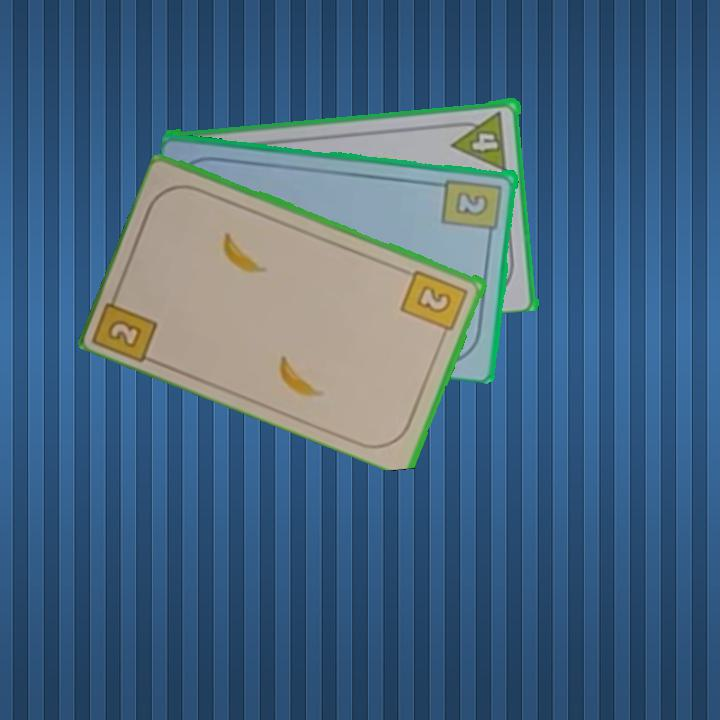2b: (398, 265, 471, 341), (93, 283, 161, 364), (439, 175, 505, 242)
4p: (448, 107, 510, 172)
